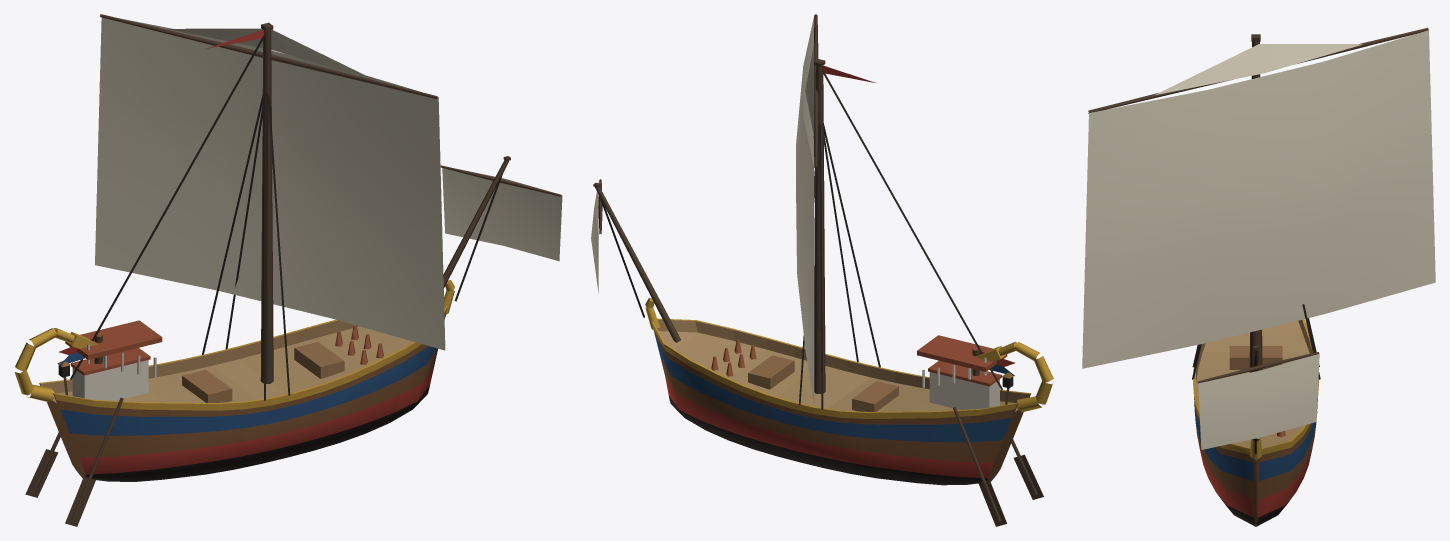
The model's file is hull_usd_grain_flagship.glb.
3 views of the same model, side by side, from view 1: azimuth 30°, elevation 25°; view 2: azimuth 150°, elevation 25°; view 3: azimuth 270°, elevation 25° (orthographic). The views are drawn at different scales.
Visible parts, largest first — view 1: sail_main, hull, deck, mast, rigging, yards, sail_extra; view 2: hull, deck, sail_main, mast, rigging, yards; view 3: sail_main, hull, sail_extra, yards, deck, mast, rigging.
Boxes of the visible parts, box(x1,y1,x2,y2) form: sail_main: box(95, 17, 562, 350); hull: box(14, 280, 454, 481); deck: box(25, 320, 383, 526); mast: box(94, 22, 510, 383); rigging: box(70, 34, 503, 400); yards: box(100, 14, 561, 196); sail_extra: box(167, 28, 373, 79); hull: box(645, 297, 1053, 485); deck: box(711, 335, 1043, 526); sail_main: box(591, 16, 814, 404); mast: box(593, 59, 979, 393); rigging: box(599, 70, 1002, 409); yards: box(598, 14, 818, 234); sail_main: box(1082, 30, 1435, 449); hull: box(1193, 319, 1318, 526); sail_extra: box(1154, 44, 1362, 95); yards: box(1088, 28, 1428, 383); deck: box(1229, 346, 1285, 437); mast: box(1249, 34, 1262, 441); rigging: box(1192, 304, 1320, 454).
Bounding box in the file's own units: 38.76 × 31.14 × 22.7.
